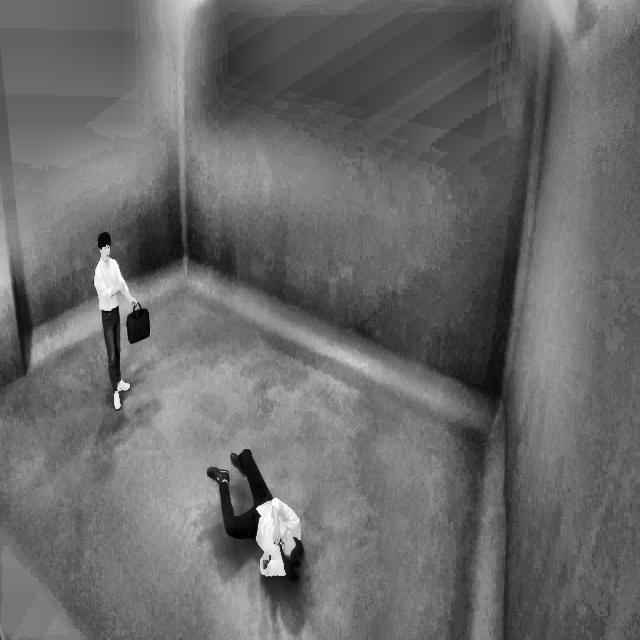assult: (86, 208, 314, 588), (95, 230, 309, 572), (216, 450, 308, 593)
